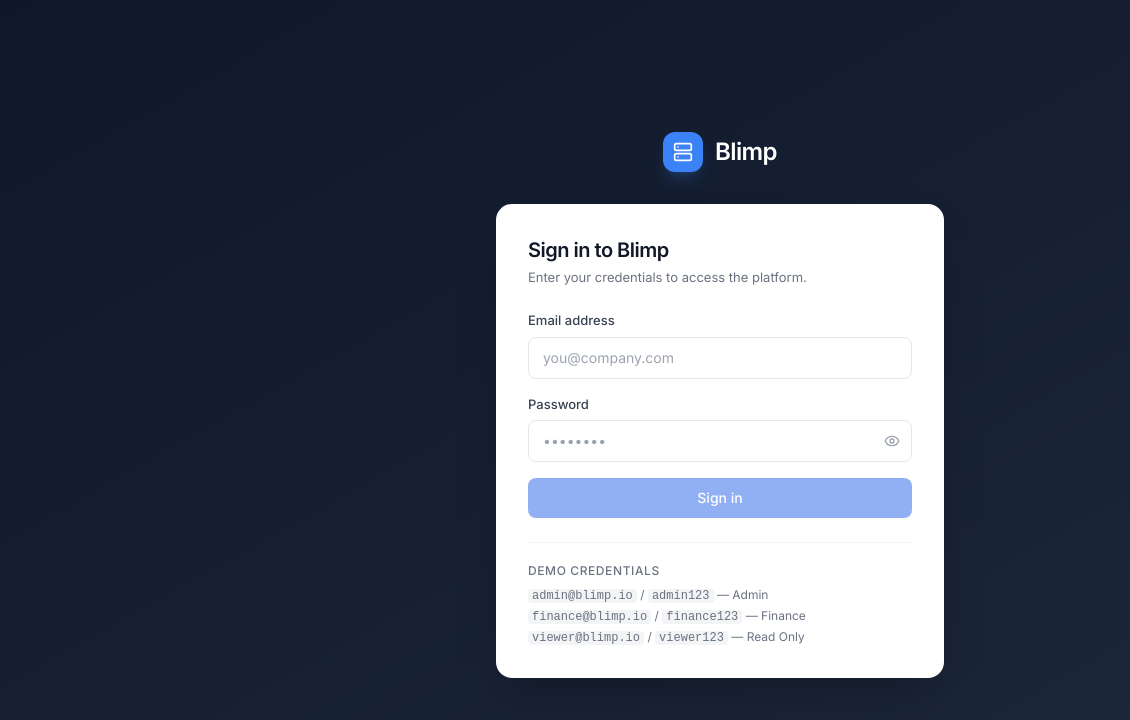
Login page › password visibility toggle › changes button aria-label to "Hide password" after toggling on
Click the button named "show password": click(892, 441) [884,433,900,449]
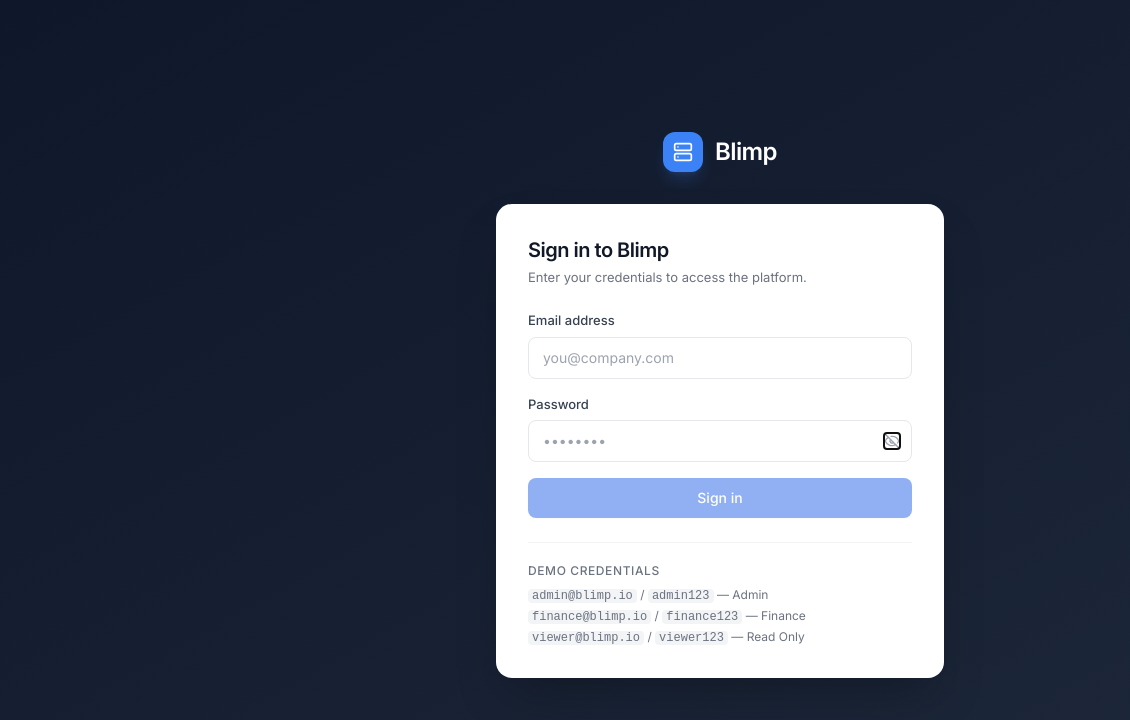
Expected: the button named "hide password" is shown, [884,433,900,449]
